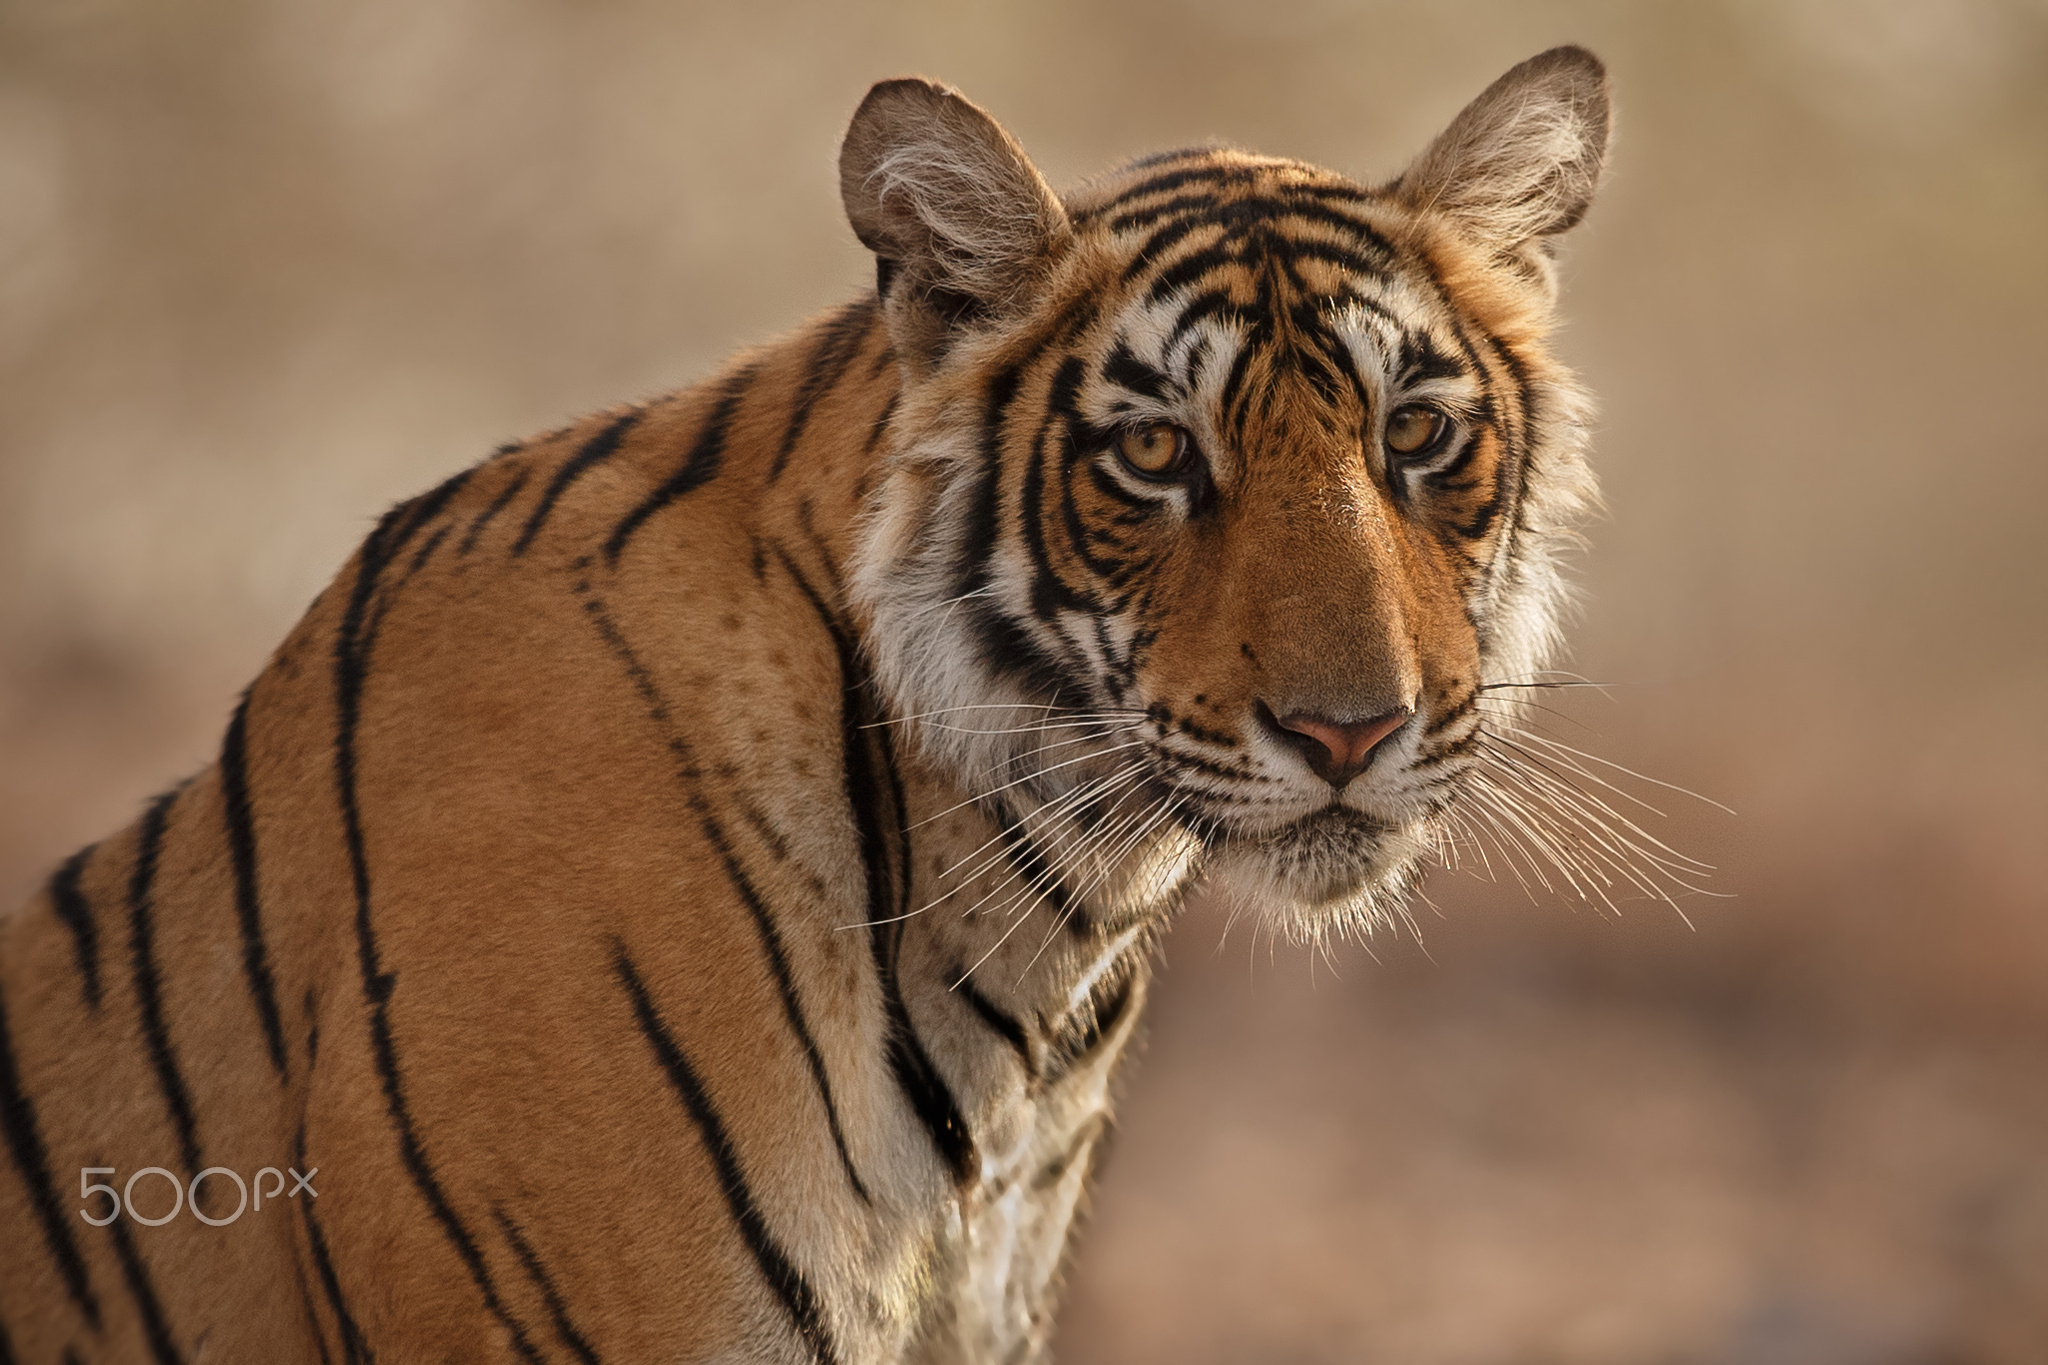tiger: (215, 66, 1698, 1307)
